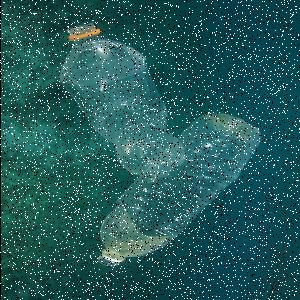Plastic-bottle: (96, 114, 262, 270), (59, 23, 186, 179)
